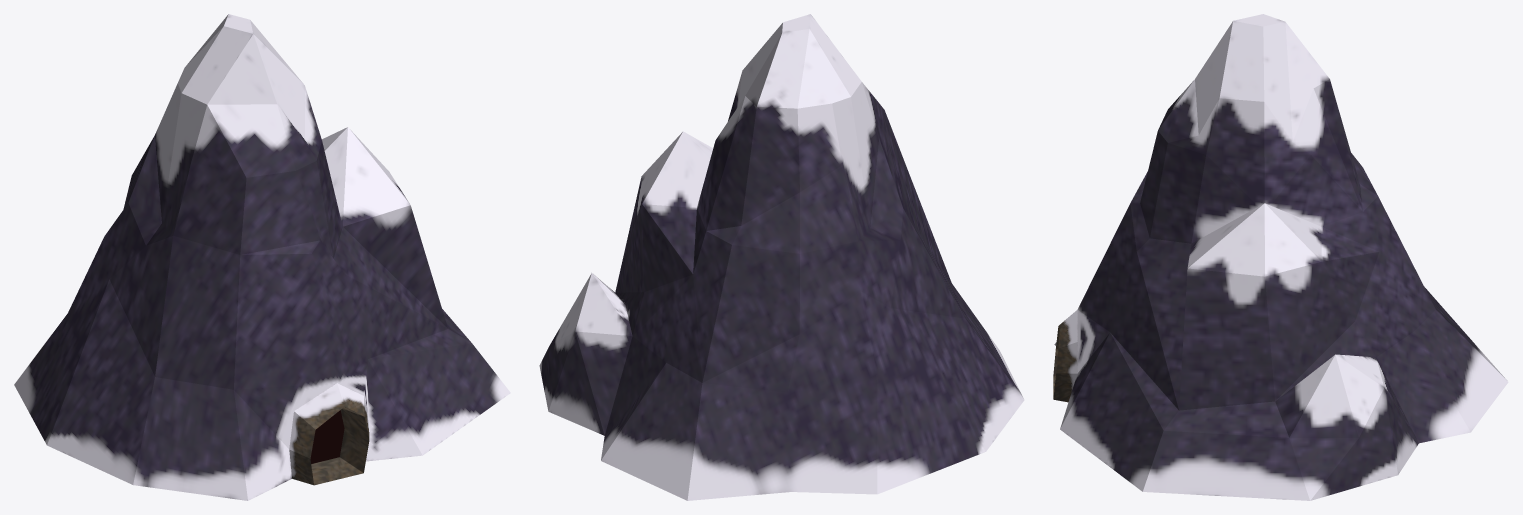
Rendered from Mt_Bath.fbx.
3 renders of one model, left to right at view 1: azimuth 30°, elevation 25°; view 2: azimuth 150°, elevation 25°; view 3: azimuth 270°, elevation 25°, orthographic. The views are drawn at different scales.
Parts seen in each view (by area): view 1: Mountain; view 2: Mountain; view 3: Mountain.
Part boxes in pixels (x1,y1,x2,y2): Mountain: [14, 14, 510, 500]; Mountain: [539, 14, 1024, 500]; Mountain: [1053, 14, 1508, 500].
Size of the model in its own units: 126 by 108 by 121.
1 material, 1 textured.
